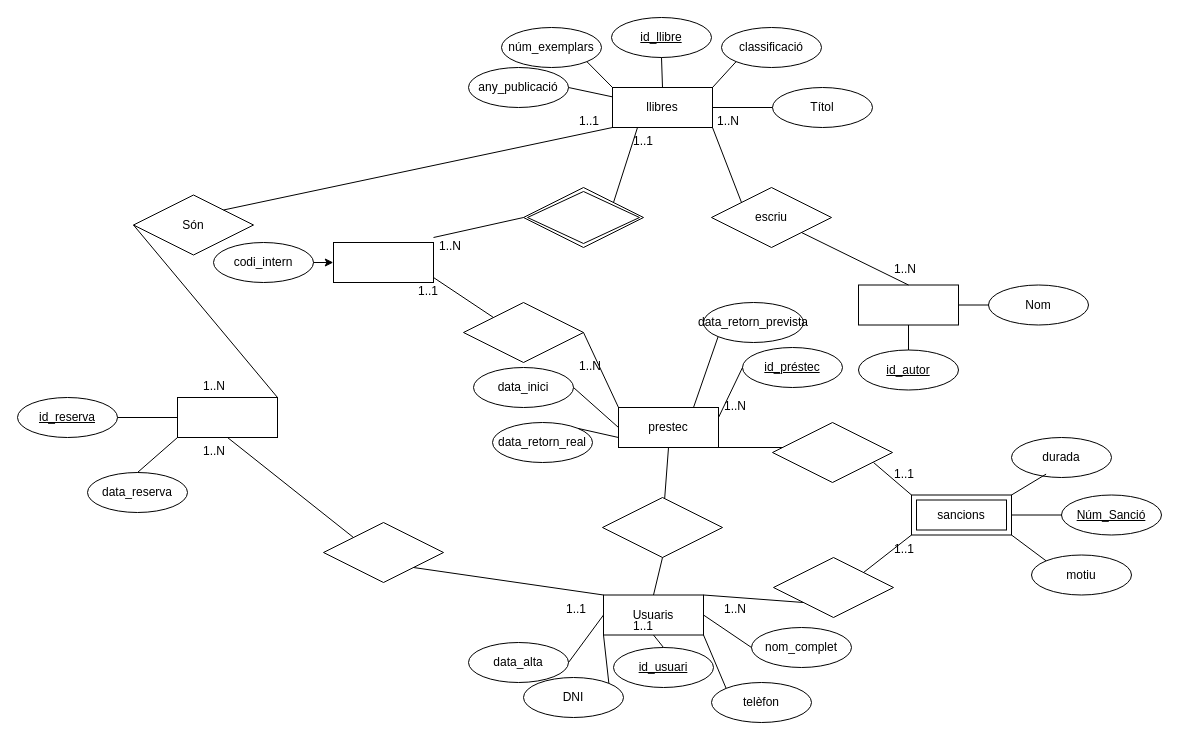
The diagram is 1179 pixels wide and 740 high, and some of its shapes have lost their labels. Here are the shapes that lost their labels. From the top down, the centre of each, then its label:
the point at 583,217: té
the point at 383,262: exemplar
the point at 908,304: autor
the point at 523,332: conté
the point at 227,417: reserves
the point at 832,452: generen
the point at 662,527: demana
the point at 383,552: fan
the point at 833,587: tenen
